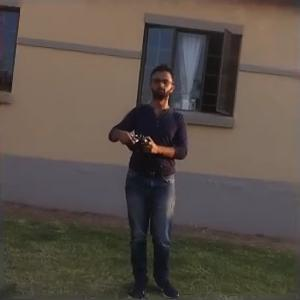follow: (104, 59, 192, 299)
